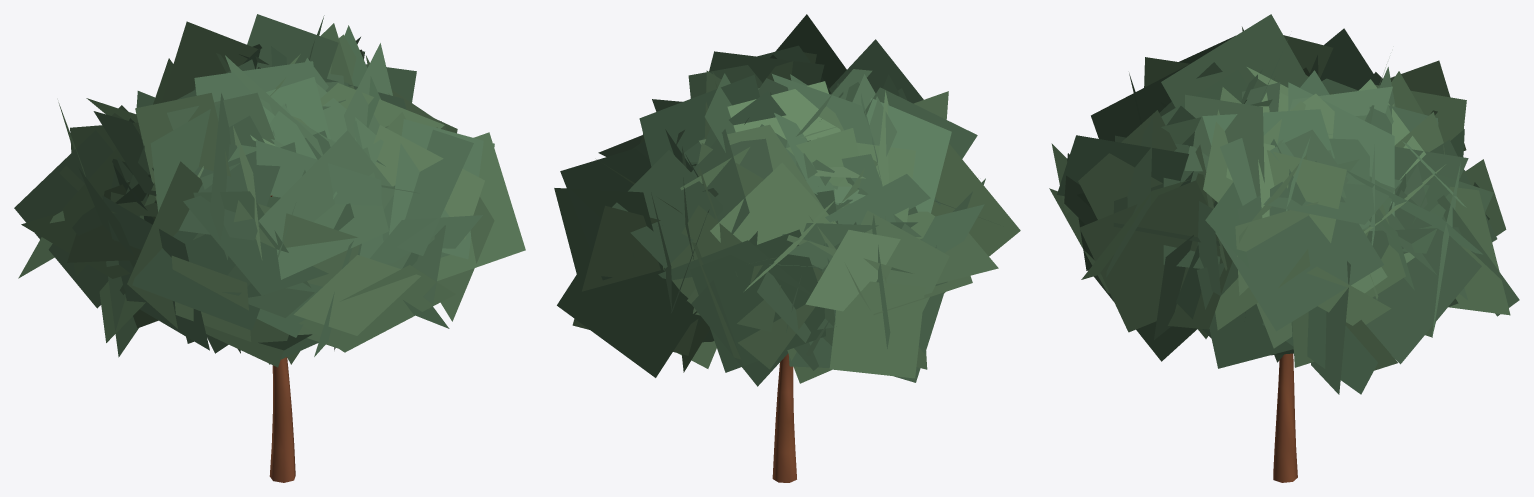
The model's file is pine_0.glb.
3 renders of one model, left to right at view 1: azimuth 30°, elevation 25°; view 2: azimuth 150°, elevation 25°; view 3: azimuth 270°, elevation 25°, orthographic. The views are drawn at different scales.
Visible parts, largest first — view 1: pine_0; view 2: pine_0; view 3: pine_0.
Boxes of the visible parts, x1=… form: pine_0: x1=14, y1=14, x2=525, y2=482; pine_0: x1=554, y1=14, x2=1020, y2=482; pine_0: x1=1049, y1=14, x2=1519, y2=482.
Bounding box in the file's own units: 1 × 1 × 0.9862.
